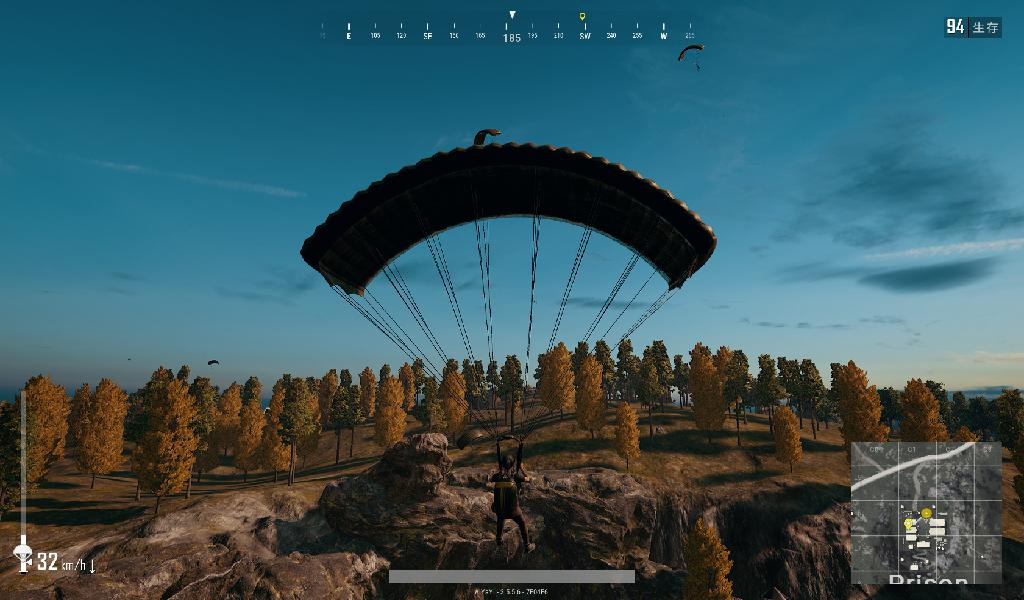Target Person: (479, 433, 542, 559), (694, 61, 702, 75)
